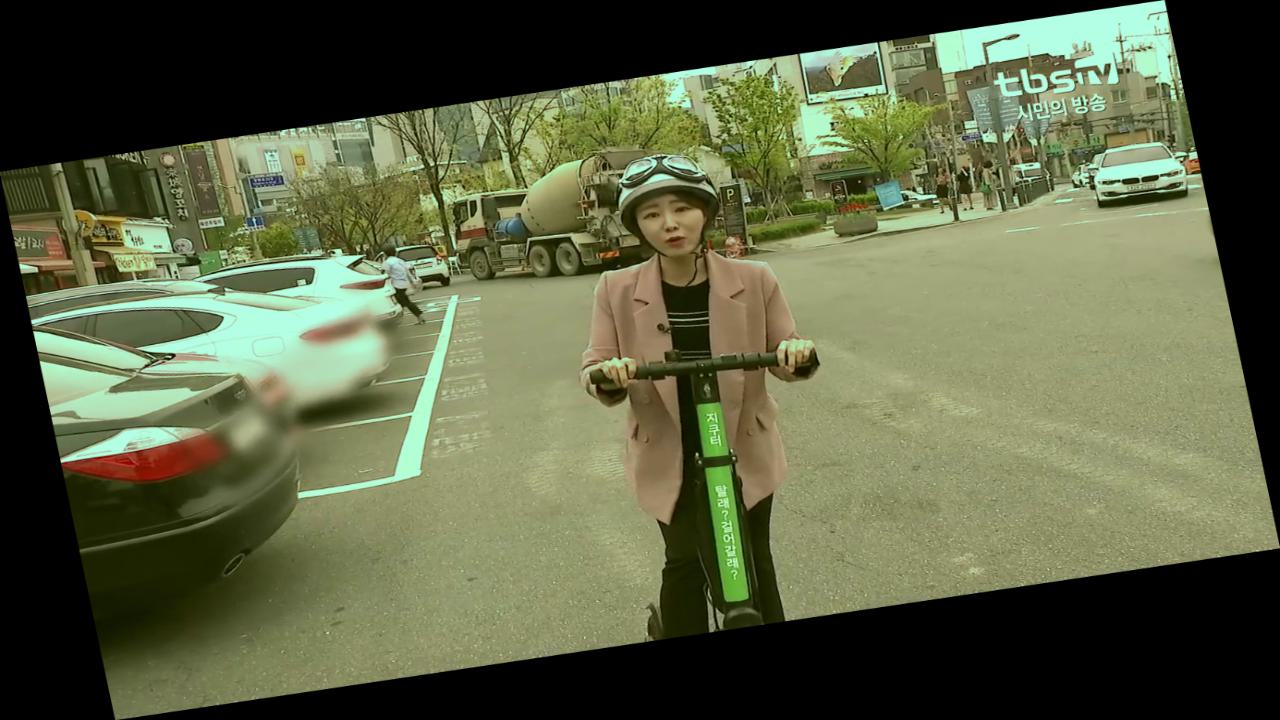helmet: (536, 136, 876, 643)
